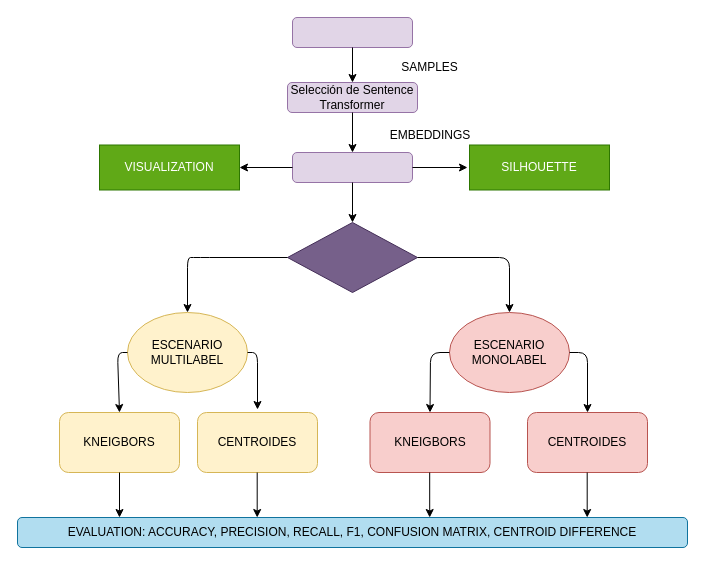
This 705x565 diagram has some shape labels left out. The box of each missing label's shape, as (x1, y1, x2, y2) in pixels:
BERTOPIC: (292, 152, 412, 182)
Preprocesado: (292, 16, 412, 48)
SELECCION DE ETIQUETADO: (286, 222, 418, 292)
